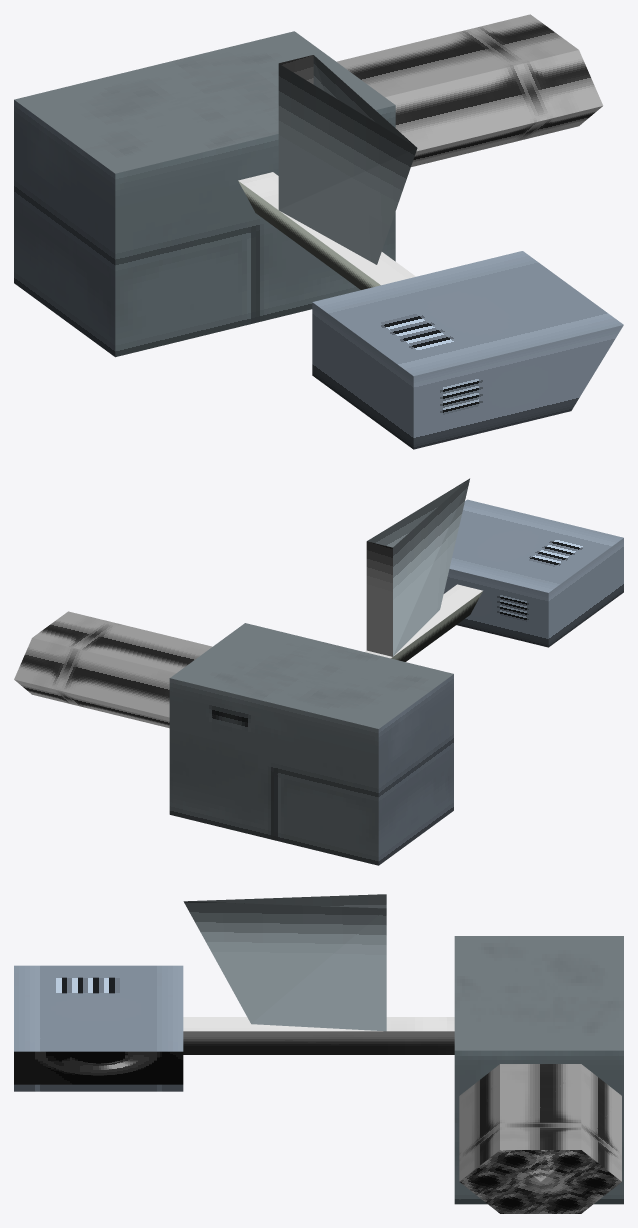
File: primary_044.glb
The picture shows the model from 3 angles, top to bottom: view 1: azimuth 30°, elevation 25°; view 2: azimuth 150°, elevation 25°; view 3: azimuth 270°, elevation 25°; orthographic projection. The views are drawn at different scales.
Parts seen in each view (by area): view 1: Object; view 2: Object; view 3: Object.
Boxes of the visible parts, bbox=[...] form: Object: bbox=[14, 14, 623, 449]; Object: bbox=[14, 478, 623, 865]; Object: bbox=[14, 894, 623, 1213].
Size of the model in its own units: 1.58 by 0.9047 by 2.04.
Materials: 19 (19 with a texture image).
